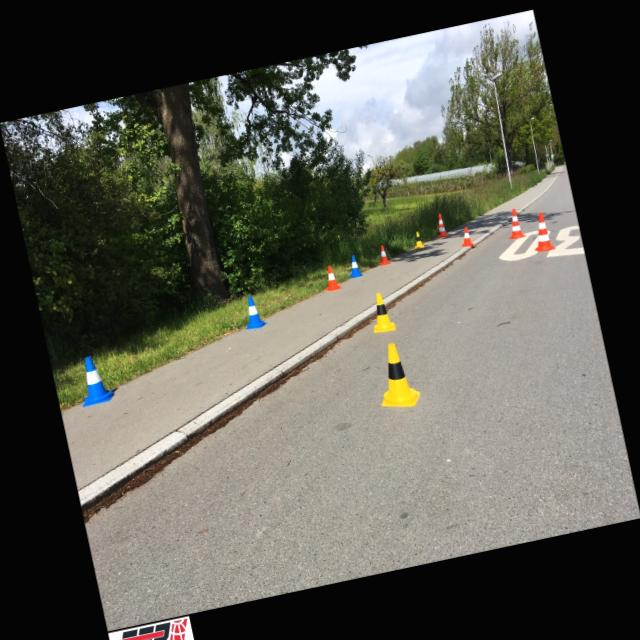blue_cone: (73, 352, 116, 406), (239, 294, 267, 330), (345, 254, 363, 278)
large_orange_cone: (528, 211, 554, 252), (503, 207, 525, 239), (434, 212, 448, 238)
orange_cone: (321, 264, 342, 291), (375, 243, 391, 266), (459, 226, 473, 247)
yellow_cone: (369, 339, 422, 412), (366, 290, 396, 334), (412, 230, 424, 248)
